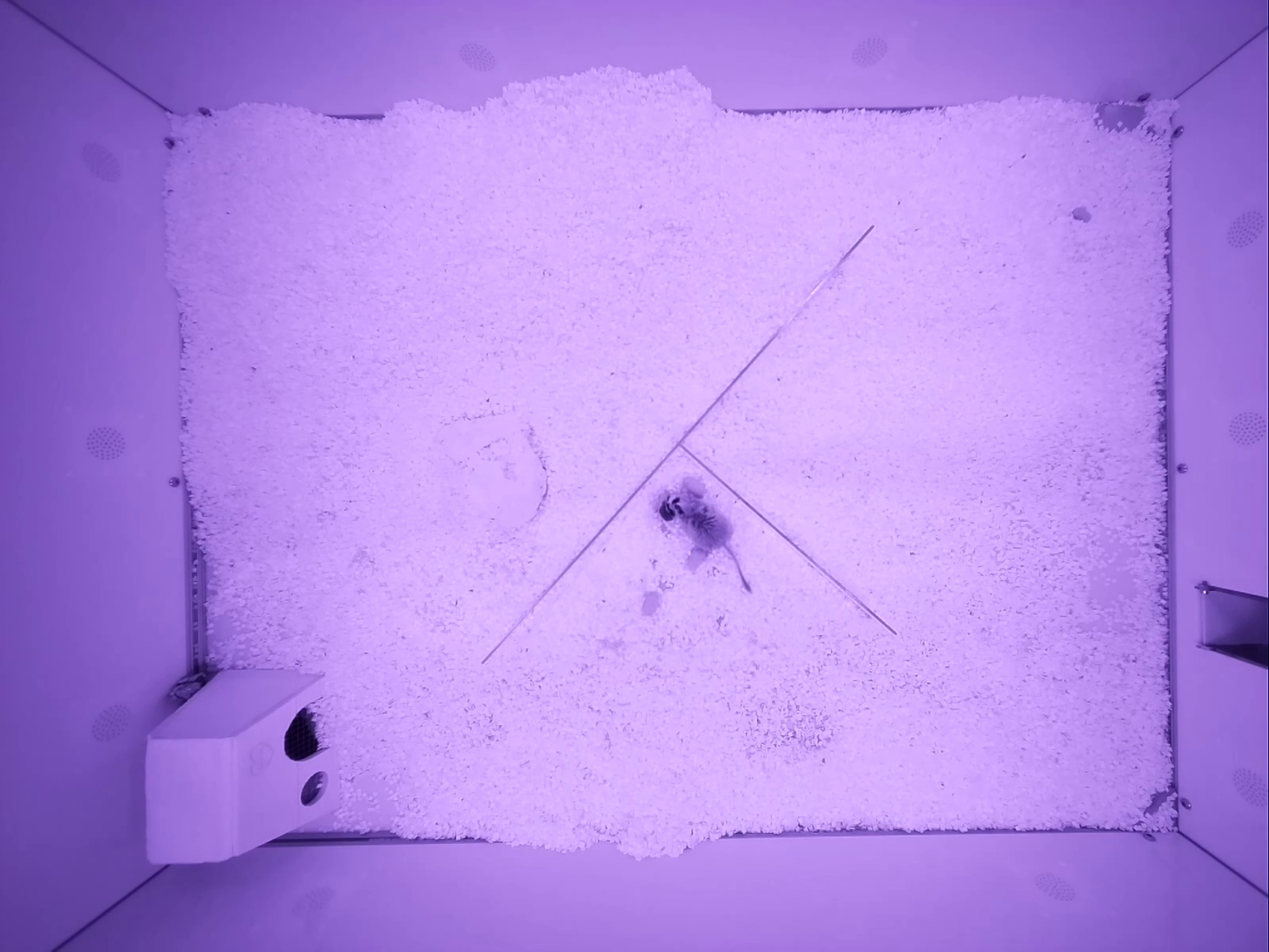adult_back: (659, 477, 751, 590)
